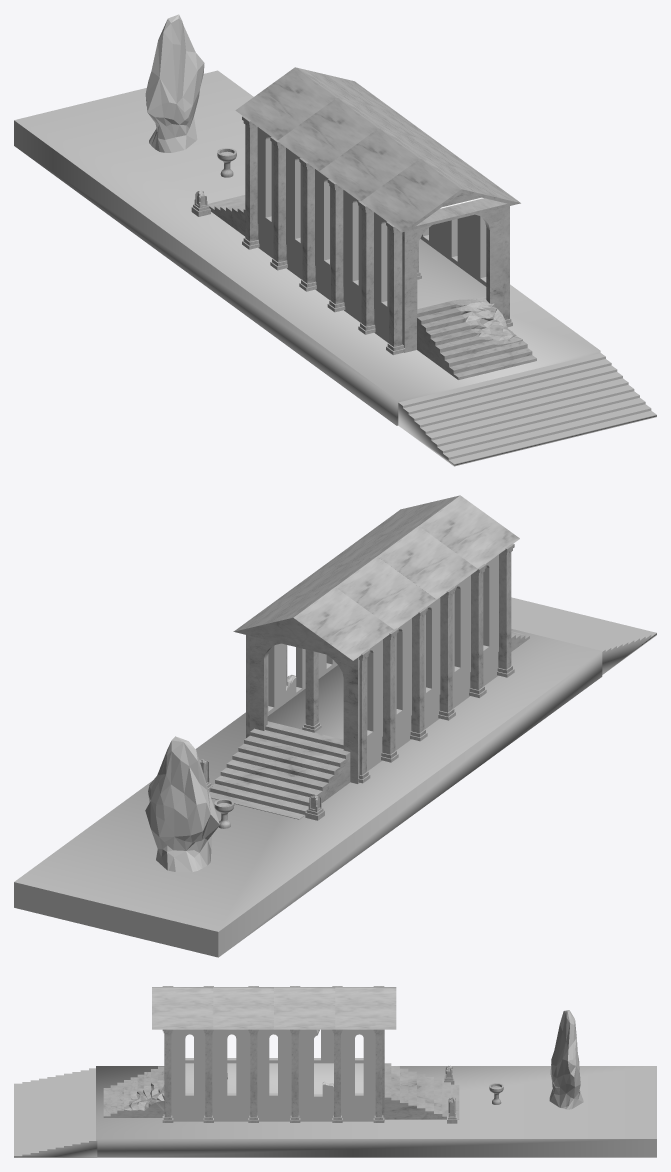
Rendered from ruinedTemple.obj.
The picture shows the model from 3 angles, top to bottom: view 1: azimuth 30°, elevation 25°; view 2: azimuth 150°, elevation 25°; view 3: azimuth 270°, elevation 25°; orthographic projection. The views are drawn at different scales.
Parts seen in each view (by area): view 1: Tall_Stone_Wall_Plain.001, Stone_Stairs_Broken, Stone_Roof_Edge.001, Stone_Stairs.004, Tall_Rock, Stone_Stairs.001, Stone_Stairs.002, Stone_Roof_Edge.003, Stone_Roof_Edge.004, Stone_Roof_Edge.002, Tall_Stone_Archway.001, Temple_Floor.003 (+15 smaller); view 2: Tall_Stone_Wall_Plain.001, Stone_Stairs.003, Tall_Rock, Stone_Roof_Edge.004, Stone_Roof_Edge.003, Stone_Roof_Edge.001, Stone_Roof_Edge.002, Tall_Stone_Archway.002, Stone_Stairs.004, Temple_Floor.003, Temple_Wall.007, Stone_Pillar_Tall.003 (+13 smaller); view 3: Tall_Stone_Wall_Plain.001, Stone_Stairs.003, Stone_Stairs.002, Stone_Roof_Edge.004, Stone_Roof_Edge.003, Stone_Roof_Edge.001, Stone_Roof_Edge.002, Stone_Stairs_Broken, Temple_Wall.003, Tall_Rock, Temple_Wall.001, Temple_Wall.002 (+17 smaller).
Part boxes in pixels (left/top/right/bottom): Tall_Stone_Wall_Plain.001: left=14, top=70, right=600, bottom=425; Stone_Stairs_Broken: left=417, top=297, right=536, bottom=379; Stone_Roof_Edge.001: left=361, top=159, right=520, bottom=232; Stone_Stairs.004: left=398, top=385, right=526, bottom=466; Tall_Rock: left=145, top=14, right=204, bottom=152; Stone_Stairs.001: left=468, top=368, right=596, bottom=449; Stone_Stairs.002: left=529, top=353, right=656, bottom=434; Stone_Roof_Edge.003: left=278, top=98, right=437, bottom=171; Stone_Roof_Edge.004: left=235, top=67, right=395, bottom=140; Stone_Roof_Edge.002: left=319, top=128, right=479, bottom=200; Tall_Stone_Archway.001: left=402, top=208, right=502, bottom=352; Temple_Floor.003: left=417, top=239, right=486, bottom=308; Tall_Stone_Wall_Plain.001: left=14, top=629, right=602, bottom=957; Stone_Stairs.003: left=209, top=721, right=350, bottom=819; Tall_Rock: left=145, top=736, right=219, bottom=872; Stone_Roof_Edge.004: left=233, top=587, right=393, bottom=660; Stone_Roof_Edge.003: left=276, top=556, right=436, bottom=629; Stone_Roof_Edge.001: left=359, top=495, right=519, bottom=568; Stone_Roof_Edge.002: left=318, top=526, right=477, bottom=599; Tall_Stone_Archway.002: left=249, top=636, right=359, bottom=783; Stone_Stairs.004: left=533, top=615, right=656, bottom=674; Temple_Floor.003: left=267, top=665, right=343, bottom=739; Temple_Wall.007: left=452, top=575, right=470, bottom=684; Stone_Pillar_Tall.003: left=438, top=586, right=455, bottom=720; Tall_Stone_Wall_Plain.001: left=96, top=1066, right=656, bottom=1157; Stone_Stairs.003: left=384, top=1063, right=459, bottom=1119; Stone_Stairs.002: left=14, top=1118, right=97, bottom=1157; Stone_Roof_Edge.004: left=335, top=987, right=396, bottom=1029; Stone_Roof_Edge.003: left=274, top=987, right=335, bottom=1029; Stone_Roof_Edge.001: left=152, top=987, right=213, bottom=1029; Stone_Roof_Edge.002: left=212, top=987, right=273, bottom=1029; Stone_Stairs_Broken: left=103, top=1066, right=164, bottom=1117; Temple_Wall.003: left=212, top=1029, right=250, bottom=1104; Tall_Rock: left=549, top=1010, right=583, bottom=1109; Temple_Wall.001: left=341, top=1029, right=375, bottom=1104; Temple_Wall.002: left=257, top=1029, right=291, bottom=1104.
Bounding box in the file's own units: 0.9937 × 0.8639 × 3.7.
